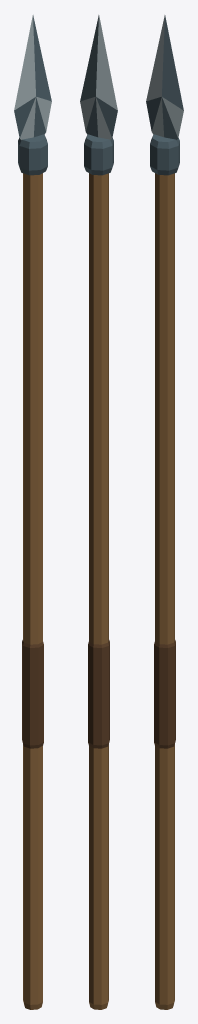
File: SpearIron.fbx
The picture shows the model from 3 angles, left to right: view 1: azimuth 30°, elevation 25°; view 2: azimuth 150°, elevation 25°; view 3: azimuth 330°, elevation 25°; orthographic projection.
Visible parts, largest first — view 1: SpearIron; view 2: SpearIron; view 3: SpearIron.
Boxes of the visible parts, x1,y1,x2,y2 form: SpearIron: [14, 15, 51, 1009]; SpearIron: [80, 15, 117, 1009]; SpearIron: [146, 15, 183, 1009].
Size of the model in its own units: 8.4 by 210 by 6.
